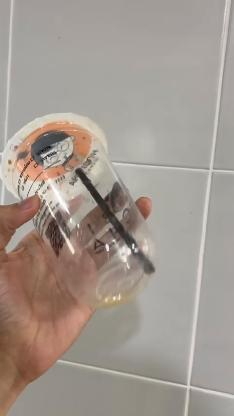Plastic Cup: (3, 112, 159, 308)
